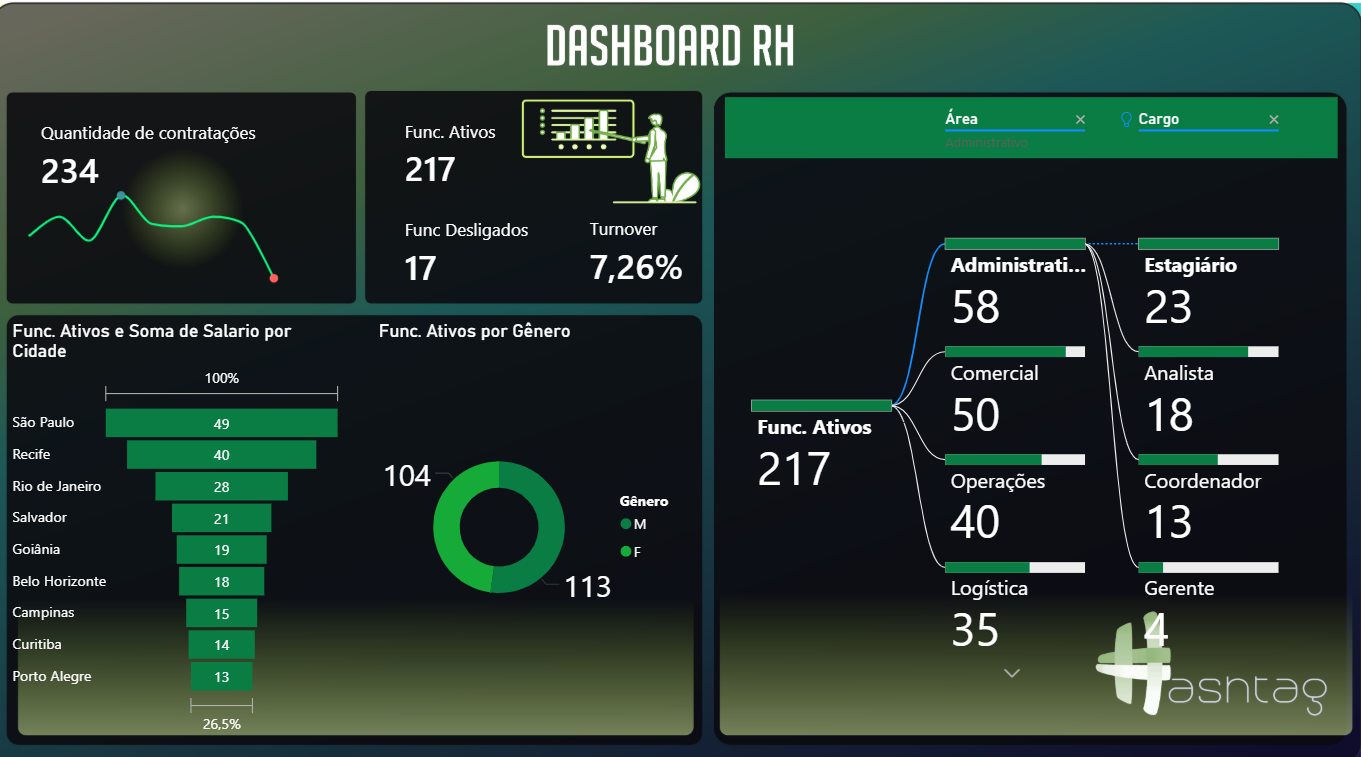

Layout of this report page (visuals, bound fields, positions):
{"tool":"powerbi","page":{"name":"Página 1","canvas":[1280,720],"ordinal":0},"visuals":[{"type":"cardVisual","fields":{"Data":["BaseFuncionarios.Quantidade de contratações"]},"box":[22.5,62.5,315,180],"z":0},{"type":"PBI_CV_25997FEB_F466_44FA_B562_AC4063283C4C","fields":{"measure":["BaseFuncionarios.Quantidade de contratações"],"axis":["BaseFuncionarios.Data de Contratacao.Variation.Hierarquia de datas.Ano"]},"box":[22.5,172.5,267.5,105],"z":1000},{"type":"cardVisual","fields":{"Data":["BaseFuncionarios.Func. Ativos"]},"box":[360,92.5,172.5,117.5],"z":2000},{"type":"cardVisual","fields":{"Data":["BaseFuncionarios.Func Desligados"]},"box":[360,192.5,182.5,100],"z":3000},{"type":"cardVisual","fields":{"Data":["BaseFuncionarios.Turnover"]},"box":[532.5,177.5,150,127.5],"z":4000},{"type":"funnel","fields":{"Y":["BaseFuncionarios.Func. Ativos"],"Category":["BaseFuncionarios.Cidade"]},"box":[20,305,317.5,390],"z":5000},{"type":"donutChart","fields":{"Y":["BaseFuncionarios.Func. Ativos"],"Category":["BaseFuncionarios.Genero"]},"box":[360,305,300,367.5],"z":6000},{"type":"decompositionTreeVisual","fields":{"Analyze":["BaseFuncionarios.Func. Ativos"],"ExplainBy":["BaseFuncionarios.Área","BaseFuncionarios.Cargo"]},"box":[682.5,92.5,580,602.5],"z":7000}]}

Visuals, with their boxes in screenshot pixels (x1, y1, x2, y2), scaled from the page's 1280x720 canvas onto the 1361x757 screenshot:
cardVisual - BaseFuncionarios.Quantidade de contratações: x1=24 y1=66 x2=359 y2=255
PBI_CV_25997FEB_F466_44FA_B562_AC4063283C4C - BaseFuncionarios.Quantidade de contratações x BaseFuncionarios.Data de Contratacao.Variation.Hierarquia de datas.Ano: x1=24 y1=181 x2=308 y2=292
cardVisual - BaseFuncionarios.Func. Ativos: x1=383 y1=97 x2=566 y2=221
cardVisual - BaseFuncionarios.Func Desligados: x1=383 y1=202 x2=577 y2=308
cardVisual - BaseFuncionarios.Turnover: x1=566 y1=187 x2=726 y2=321
funnel - BaseFuncionarios.Func. Ativos x BaseFuncionarios.Cidade: x1=21 y1=321 x2=359 y2=731
donutChart - BaseFuncionarios.Func. Ativos x BaseFuncionarios.Genero: x1=383 y1=321 x2=702 y2=707
decompositionTreeVisual - BaseFuncionarios.Func. Ativos x BaseFuncionarios.Área: x1=726 y1=97 x2=1342 y2=731
